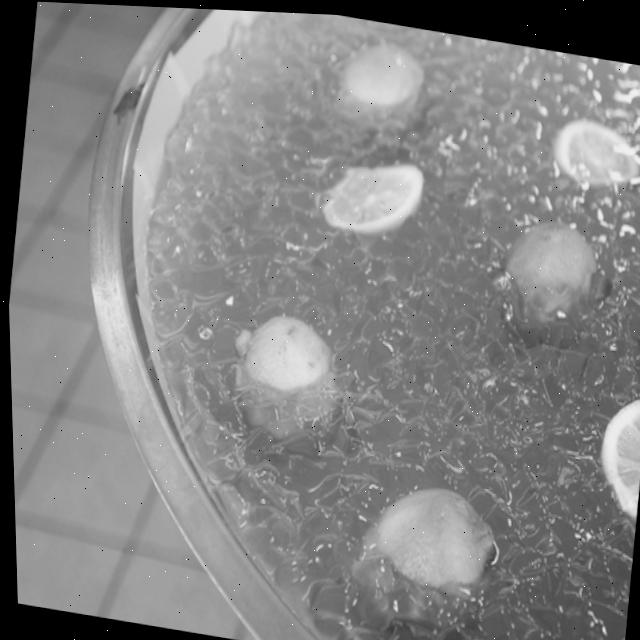蛋糕甜品: (12, 0, 640, 640)
